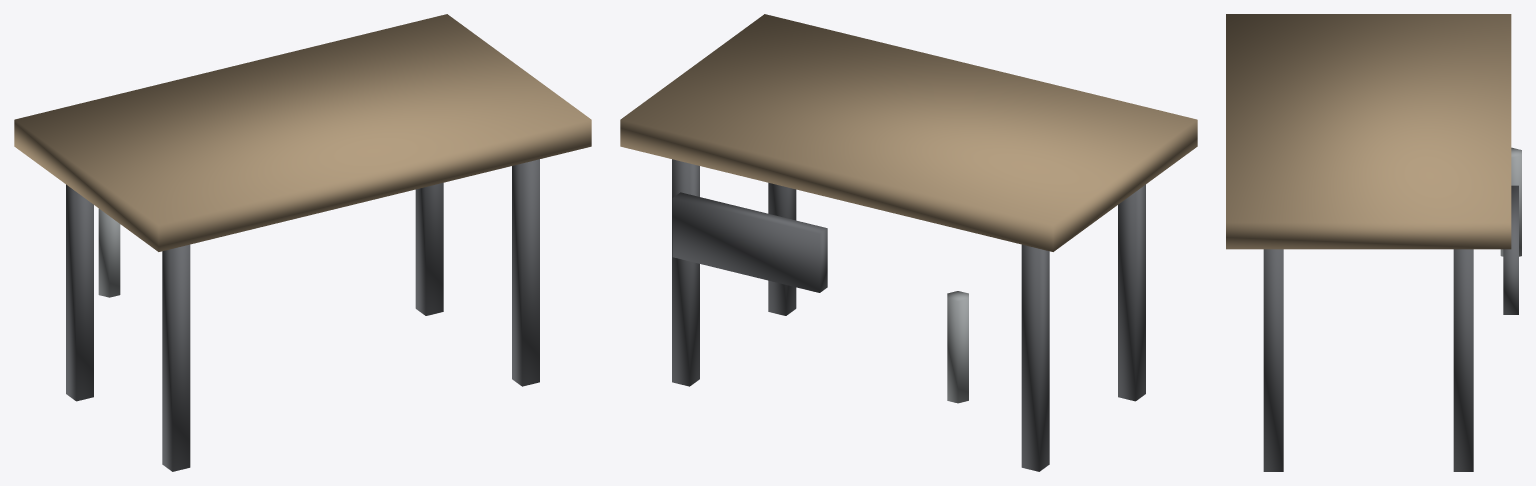
File: dining_table__service.glb
The picture shows the model from 3 angles, left to right: view 1: azimuth 30°, elevation 25°; view 2: azimuth 150°, elevation 25°; view 3: azimuth 270°, elevation 25°; orthographic projection.
Visible parts, largest first — view 1: world; view 2: world; view 3: world.
Boxes of the visible parts, x1,y1,x2,y2 form: world: (14, 14, 591, 471); world: (620, 14, 1197, 471); world: (1226, 14, 1521, 471).
Size of the model in its own units: 1.35 by 0.8 by 0.8092.
